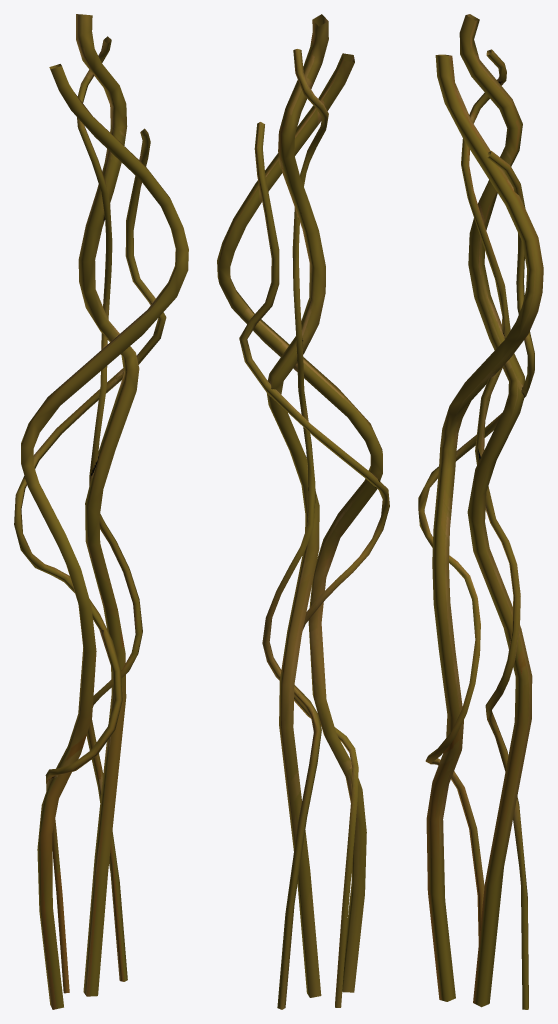
The model's file is Vine05.fbx.
3 views of the same model, side by side, from view 1: azimuth 30°, elevation 25°; view 2: azimuth 210°, elevation 25°; view 3: azimuth 330°, elevation 25° (orthographic).
Parts seen in each view (by area): view 1: Vine05_LOD0; view 2: Vine05_LOD0; view 3: Vine05_LOD0.
Part boxes in pixels (bbox=[...]): Vine05_LOD0: bbox=[14, 14, 188, 1009]; Vine05_LOD0: bbox=[217, 14, 389, 1009]; Vine05_LOD0: bbox=[418, 14, 543, 1009].
Size of what is drawn, in the model's own units: 57.2 by 364 by 31.67.
1 material, 1 textured.
